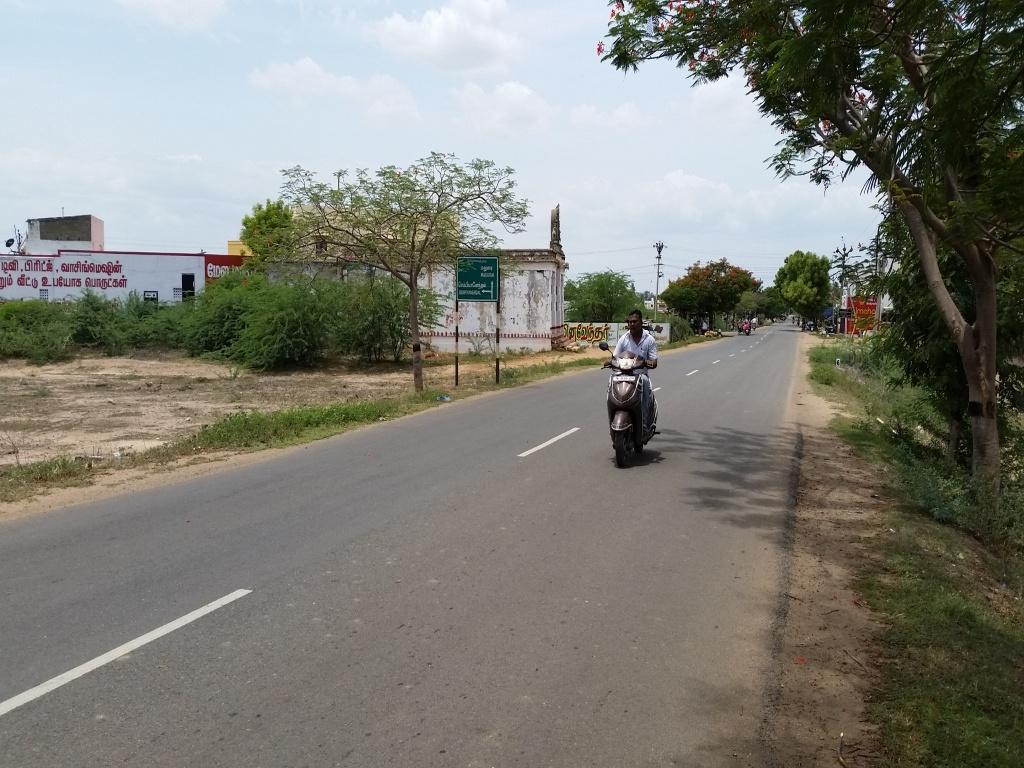biker: (573, 279, 692, 479)
nohelmet: (621, 305, 651, 350)
